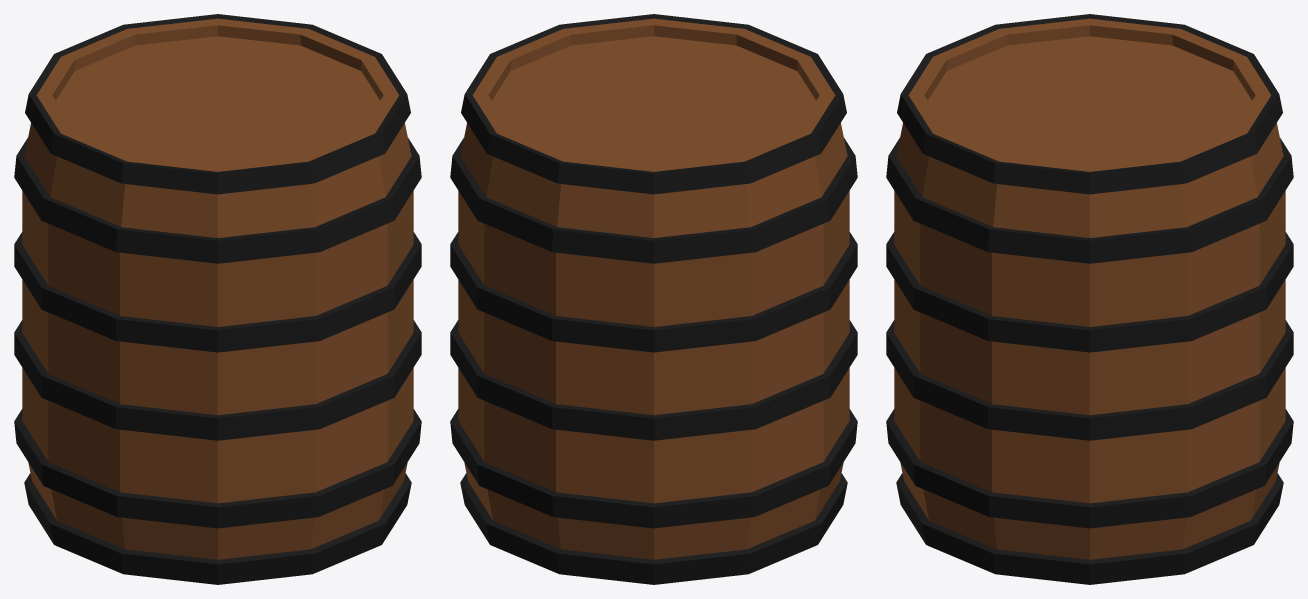
Rendered from Barrel B.obj.
3 views of the same model, side by side, from view 1: azimuth 30°, elevation 25°; view 2: azimuth 150°, elevation 25°; view 3: azimuth 270°, elevation 25° (orthographic).
Visible parts, largest first — view 1: Barrel_B; view 2: Barrel_B; view 3: Barrel_B.
Part boxes in pixels (x1,y1,x2,y2): Barrel_B: [14, 14, 421, 584]; Barrel_B: [450, 14, 857, 584]; Barrel_B: [886, 14, 1293, 584].
Size of the model in its own units: 0.8988 by 1 by 0.8988.
